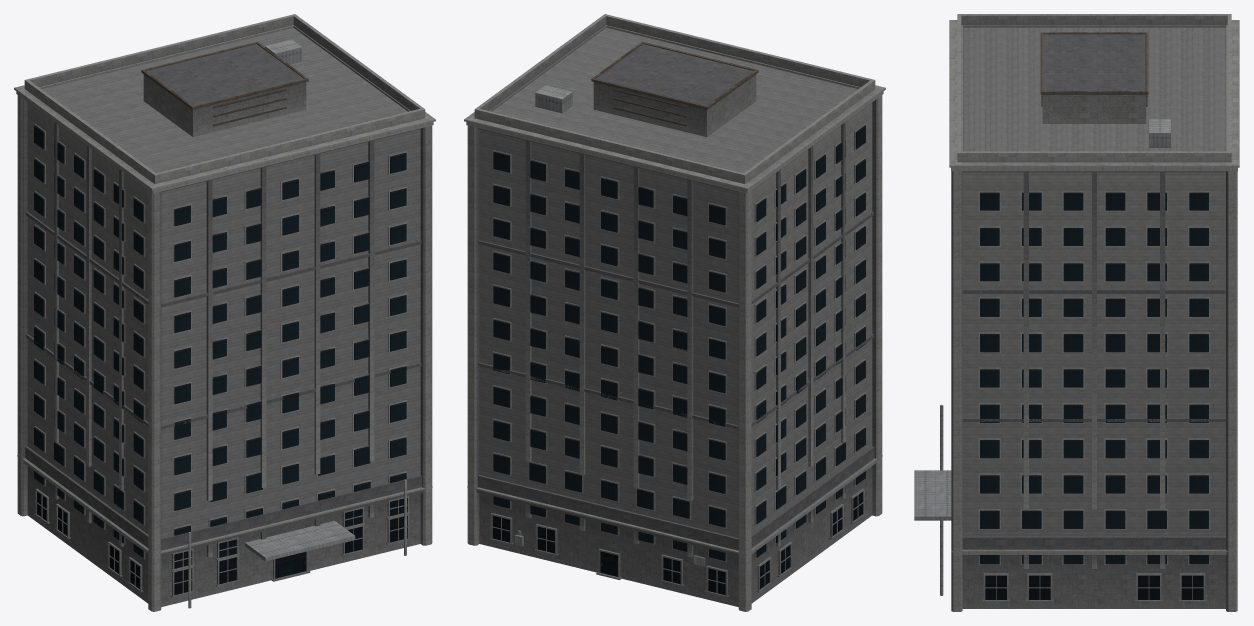
File: state-street-annex_lod0.gltf
The picture shows the model from 3 angles, left to right: view 1: azimuth 30°, elevation 25°; view 2: azimuth 150°, elevation 25°; view 3: azimuth 270°, elevation 25°; orthographic projection. The views are drawn at different scales.
Parts seen in each view (by area): view 1: state-street-annex_upper, state-street-annex__v4_stone_detail, state-street-annex_fen_07-glass-curtain-blue_1_t, state-street-annex_fen_06-granite_0, state-street-annex_base, state-street-annex__canopy, state-street-annex__parapet, state-street-annex__v4_metal_detail, state-street-annex__hvac; view 2: state-street-annex_upper, state-street-annex__v4_stone_detail, state-street-annex_fen_07-glass-curtain-blue_1_t, state-street-annex_fen_06-granite_0, state-street-annex_base, state-street-annex__parapet, state-street-annex__v4_metal_detail, state-street-annex__hvac; view 3: state-street-annex_upper, state-street-annex__v4_stone_detail, state-street-annex_fen_07-glass-curtain-blue_1_t, state-street-annex_fen_06-granite_0, state-street-annex_base, state-street-annex__parapet, state-street-annex__canopy, state-street-annex__v4_metal_detail, state-street-annex__hvac.
Boxes of the visible parts, box(x1,y1,x2,y2) form: state-street-annex_upper: box(27, 27, 420, 537); state-street-annex__v4_stone_detail: box(14, 14, 435, 611); state-street-annex_fen_07-glass-curtain-blue_1_t: box(34, 125, 407, 595); state-street-annex_fen_06-granite_0: box(34, 123, 410, 597); state-street-annex_base: box(27, 466, 420, 606); state-street-annex__canopy: box(245, 520, 355, 561); state-street-annex__parapet: box(50, 28, 407, 139); state-street-annex__v4_metal_detail: box(141, 41, 308, 126); state-street-annex__hvac: box(265, 39, 302, 64); state-street-annex_upper: box(479, 28, 872, 537); state-street-annex__v4_stone_detail: box(464, 14, 885, 611); state-street-annex_fen_07-glass-curtain-blue_1_t: box(492, 125, 865, 595); state-street-annex_fen_06-granite_0: box(489, 123, 865, 597); state-street-annex_base: box(479, 466, 872, 606); state-street-annex__parapet: box(498, 28, 856, 156); state-street-annex__v4_metal_detail: box(591, 41, 758, 126); state-street-annex__hvac: box(535, 85, 572, 113); state-street-annex_upper: box(962, 27, 1226, 536); state-street-annex__v4_stone_detail: box(949, 14, 1239, 611); state-street-annex_fen_07-glass-curtain-blue_1_t: box(980, 192, 1208, 599); state-street-annex_fen_06-granite_0: box(978, 191, 1210, 601); state-street-annex_base: box(962, 556, 1225, 608); state-street-annex__parapet: box(962, 27, 1226, 151); state-street-annex__canopy: box(914, 470, 951, 520); state-street-annex__v4_metal_detail: box(1040, 32, 1148, 106); state-street-annex__hvac: box(1149, 119, 1170, 147).
Bounding box in the file's own units: 31.6 × 48.3 × 29.8.
